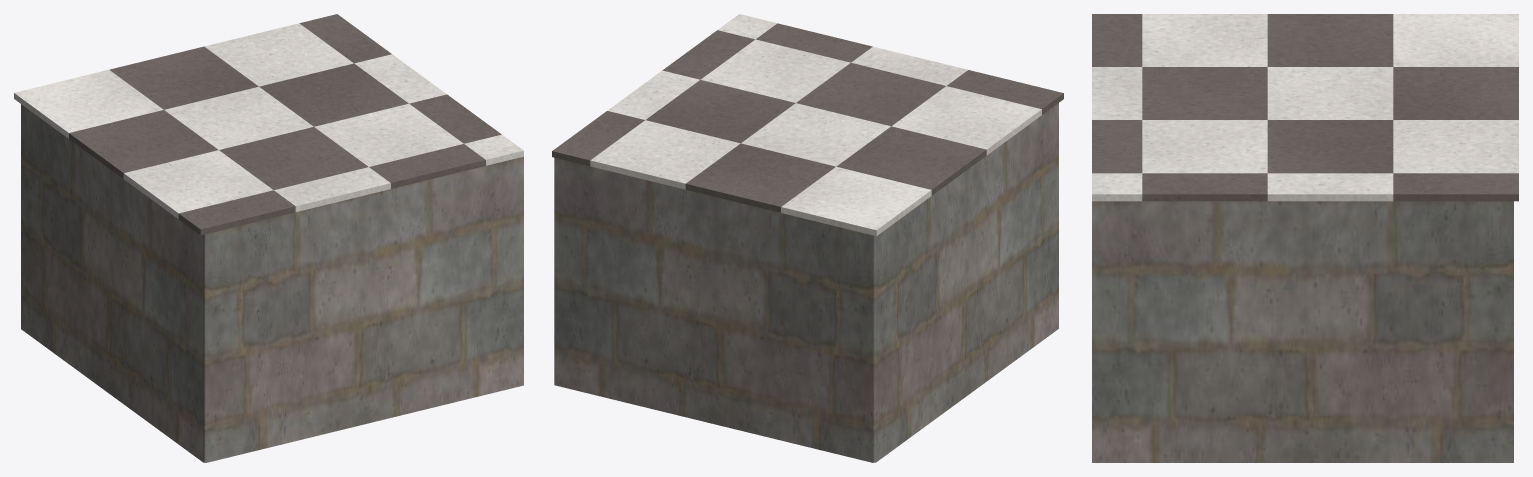
The model's file is floor_marble_e0_30_0_30.glb.
3 views of the same model, side by side, from view 1: azimuth 30°, elevation 25°; view 2: azimuth 150°, elevation 25°; view 3: azimuth 270°, elevation 25° (orthographic). The views are drawn at different scales.
Parts seen in each view (by area): view 1: floor_marble_e0_30_0_30_granite, floor_marble_e0_30_0_30_marble, floor_marble_e0_30_0_30_marble2; view 2: floor_marble_e0_30_0_30_granite, floor_marble_e0_30_0_30_marble, floor_marble_e0_30_0_30_marble2; view 3: floor_marble_e0_30_0_30_granite, floor_marble_e0_30_0_30_marble, floor_marble_e0_30_0_30_marble2.
Boxes of the visible parts, left/top/right/bottom form: floor_marble_e0_30_0_30_granite: left=21, top=104, right=523, bottom=462; floor_marble_e0_30_0_30_marble: left=14, top=23, right=523, bottom=218; floor_marble_e0_30_0_30_marble2: left=69, top=14, right=501, bottom=235; floor_marble_e0_30_0_30_granite: left=554, top=103, right=1058, bottom=462; floor_marble_e0_30_0_30_marble: left=590, top=14, right=1041, bottom=236; floor_marble_e0_30_0_30_marble2: left=552, top=23, right=1063, bottom=212; floor_marble_e0_30_0_30_granite: left=1092, top=201, right=1513, bottom=462; floor_marble_e0_30_0_30_marble: left=1092, top=14, right=1518, bottom=201; floor_marble_e0_30_0_30_marble2: left=1092, top=14, right=1518, bottom=201.
Size of the model in its own units: 1.7 by 1.18 by 1.7.
Materials: 3 (3 with a texture image).
